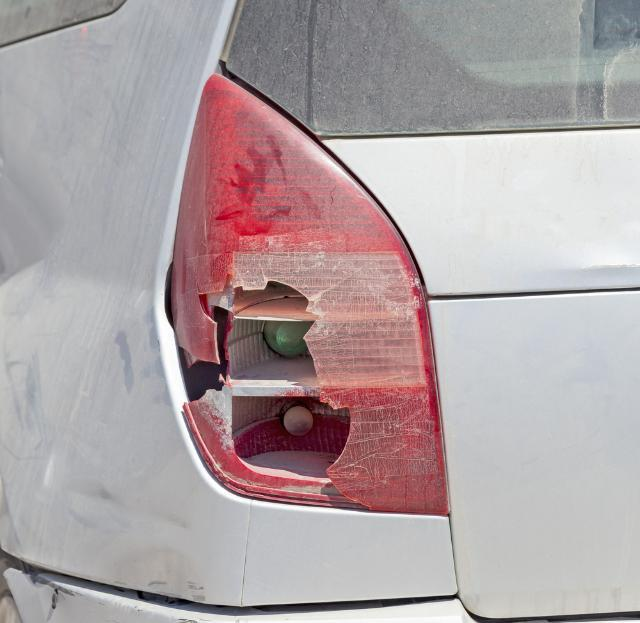lamp broken: (171, 69, 451, 517)
scratch: (27, 575, 209, 623)
